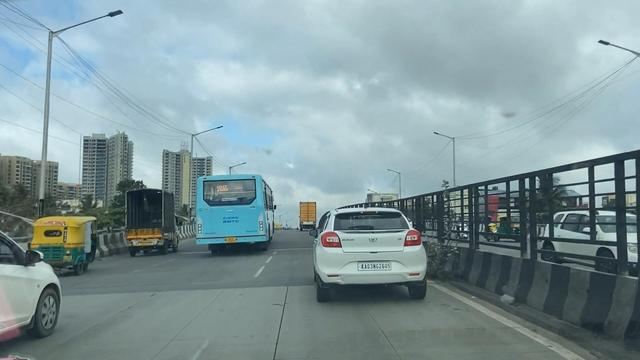HMV: (190, 164, 280, 261), (124, 183, 186, 262), (295, 197, 320, 234)
